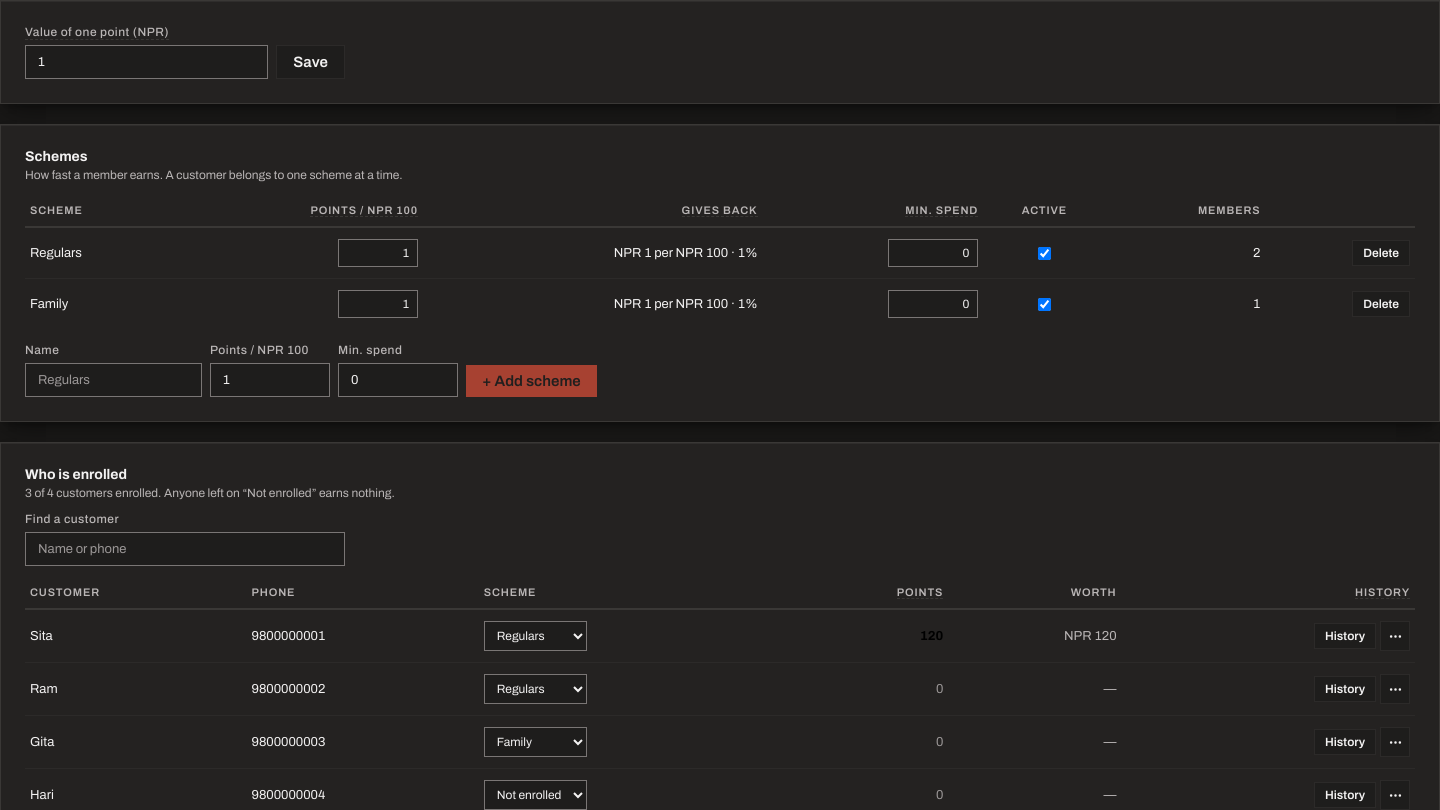
it: LoyaltyTab counts and search (S842) › each scheme's Members count, the enrolled line, and a narrowed list's N of M
Expected: the cell "2" is shown, [1105,227,1266,278]
Expected: the cell "1" is shown, [1105,278,1266,329]
Type "gita" into the search field labelled "Find a customer" at [185, 549], box [25,532,345,566]
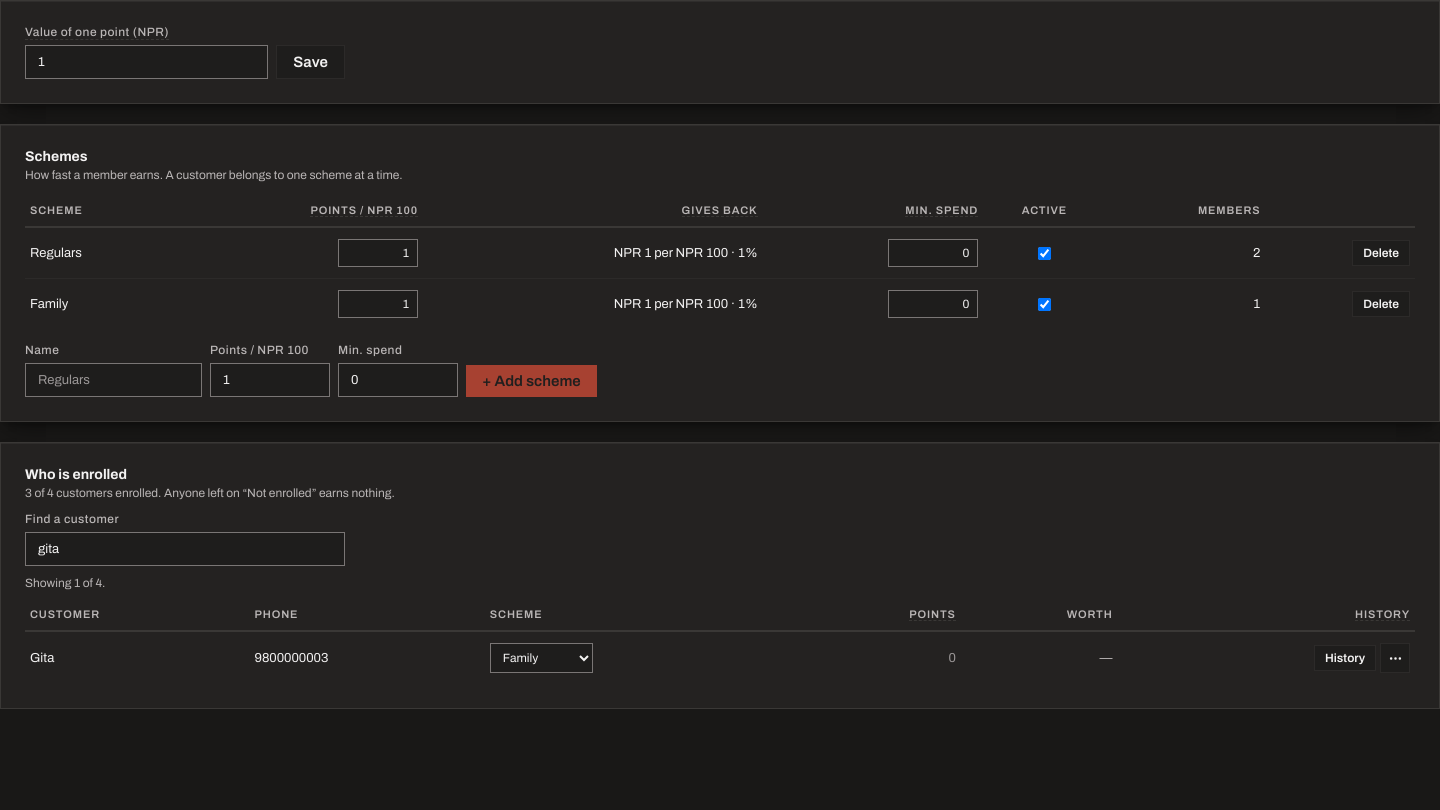
Expected: the text "Gita" is shown, [25,631,250,684]
Expected: the text "Showing 1 of 4." is shown, [25,576,105,590]
Expected: the text "Sita" is gone
